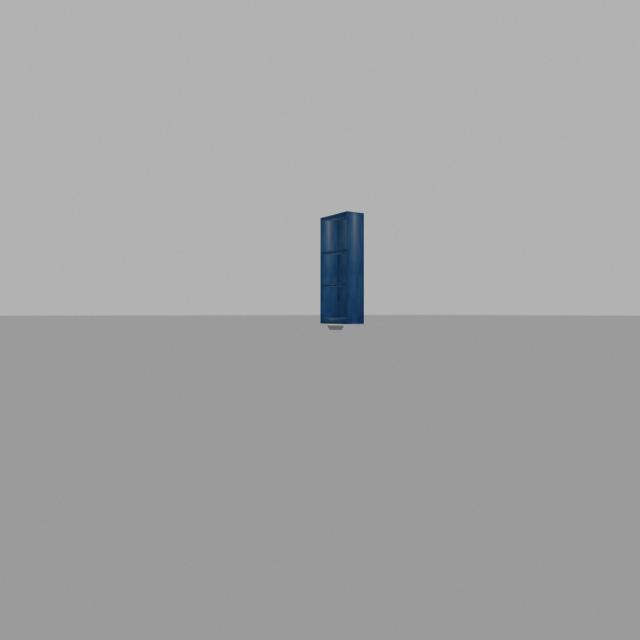bowl: (325, 322, 348, 335)
shelf: (314, 205, 369, 326)
